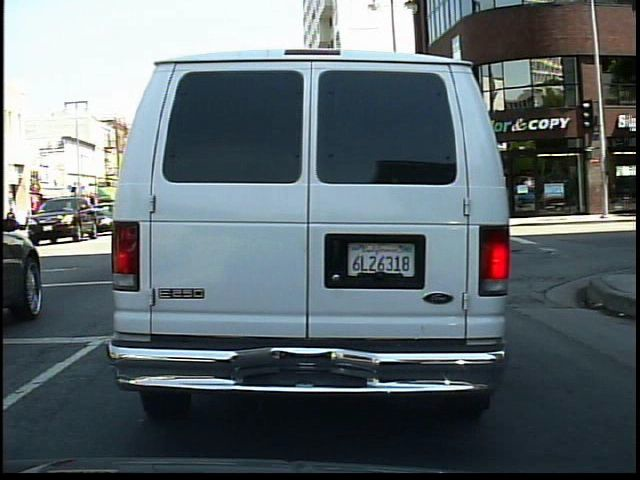person: (4, 204, 20, 221)
